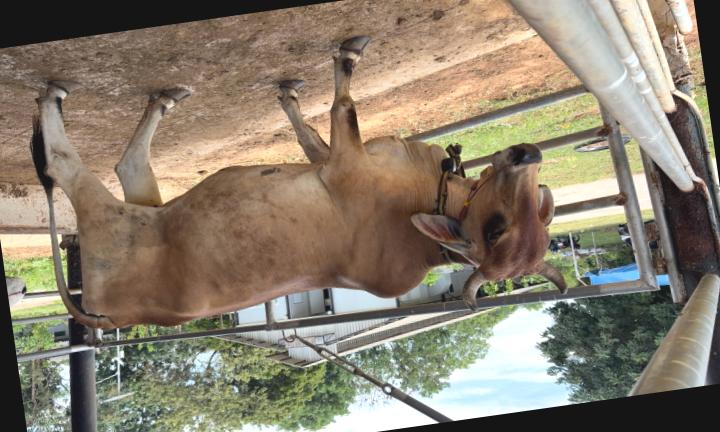Brahman: (31, 37, 566, 329)
